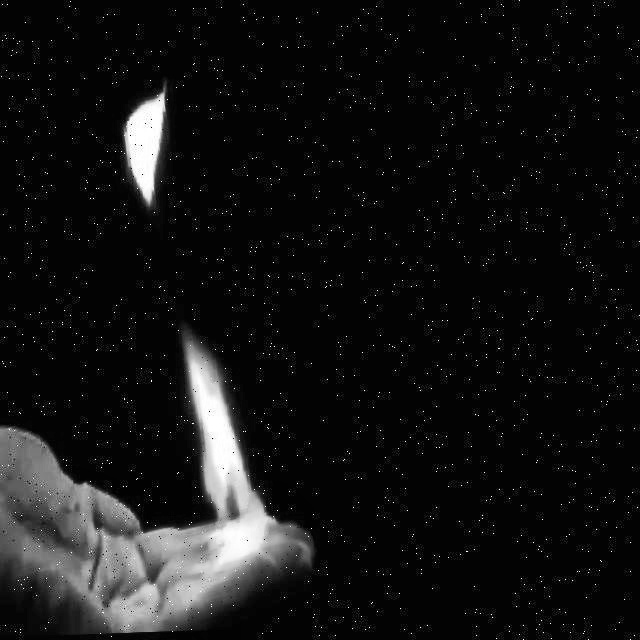Smoke: (153, 304, 302, 579)
